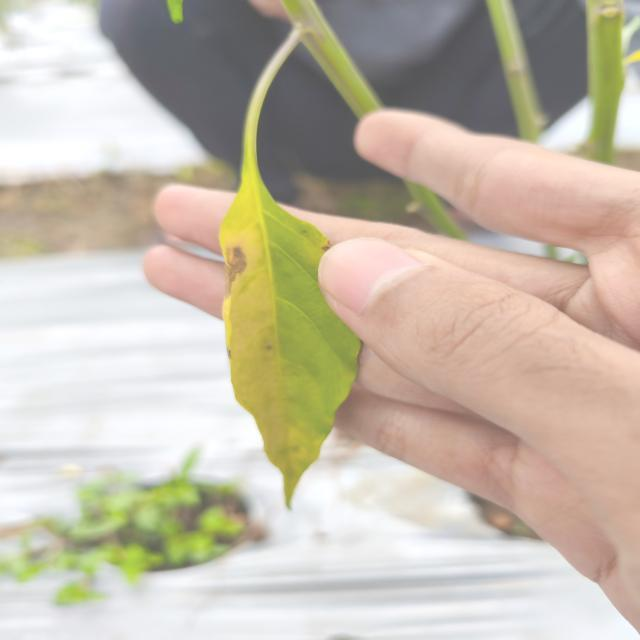Virus Kuning: (220, 183, 368, 514)
